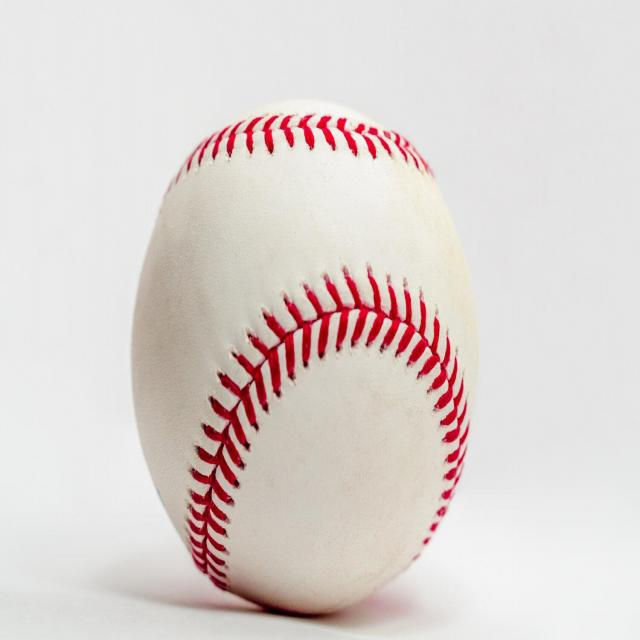baseball: (131, 99, 479, 613)
